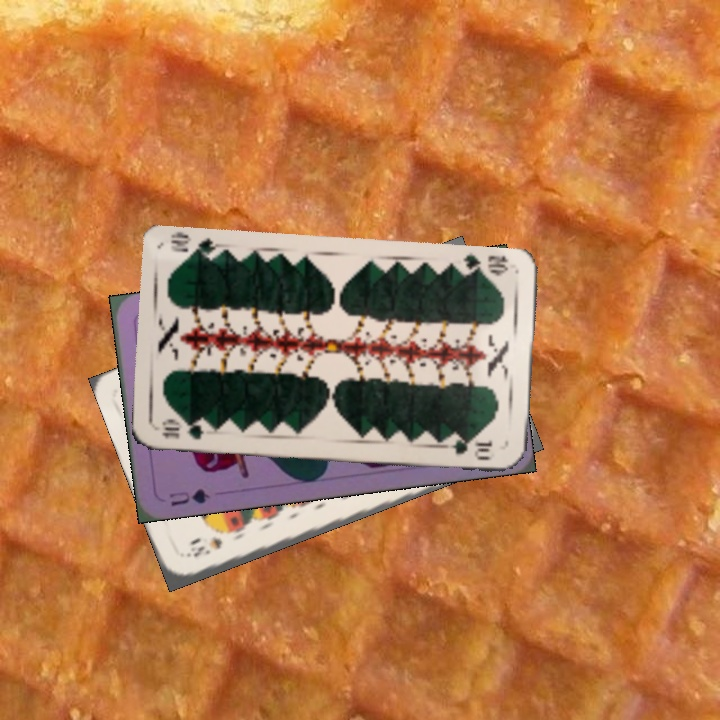G10: (455, 250, 511, 278), (158, 417, 207, 442)
GU: (165, 484, 212, 509)
S10: (182, 535, 225, 560)
